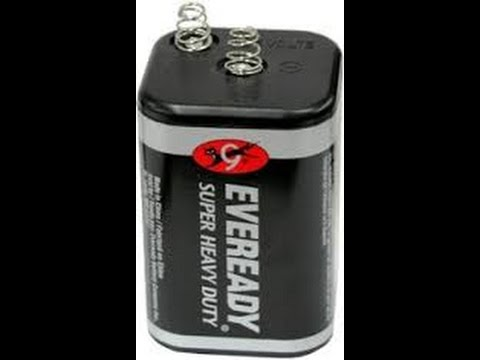6V: (153, 7, 331, 353)
